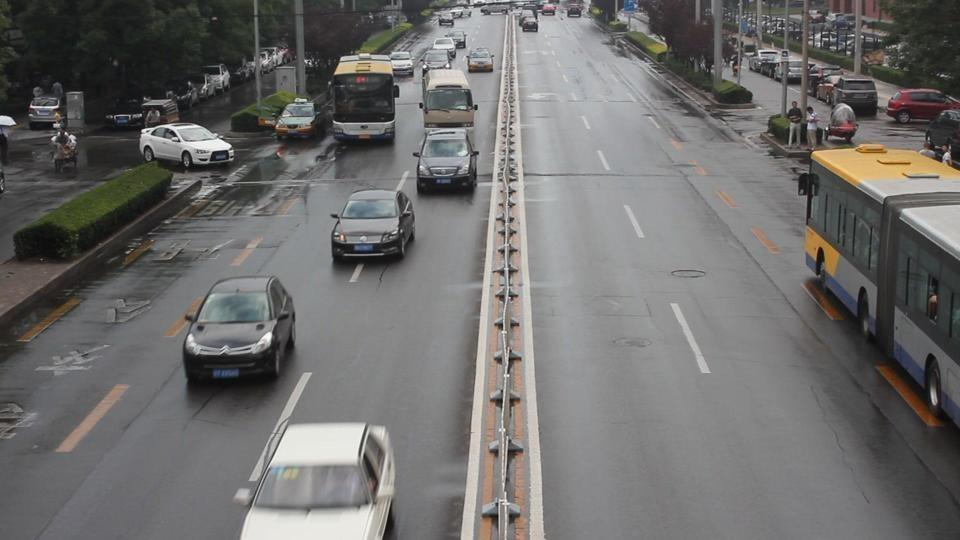car: (236, 420, 398, 539), (182, 275, 296, 385), (330, 189, 416, 261), (138, 122, 235, 170), (415, 126, 479, 196), (420, 68, 478, 130), (822, 72, 878, 119), (886, 89, 960, 124), (274, 100, 320, 139), (922, 110, 960, 152), (28, 94, 63, 130), (828, 104, 859, 144), (749, 49, 784, 75), (466, 46, 495, 73), (389, 52, 416, 80), (780, 61, 806, 82), (807, 63, 834, 80), (519, 11, 539, 32), (446, 31, 468, 49), (0, 115, 17, 128)
